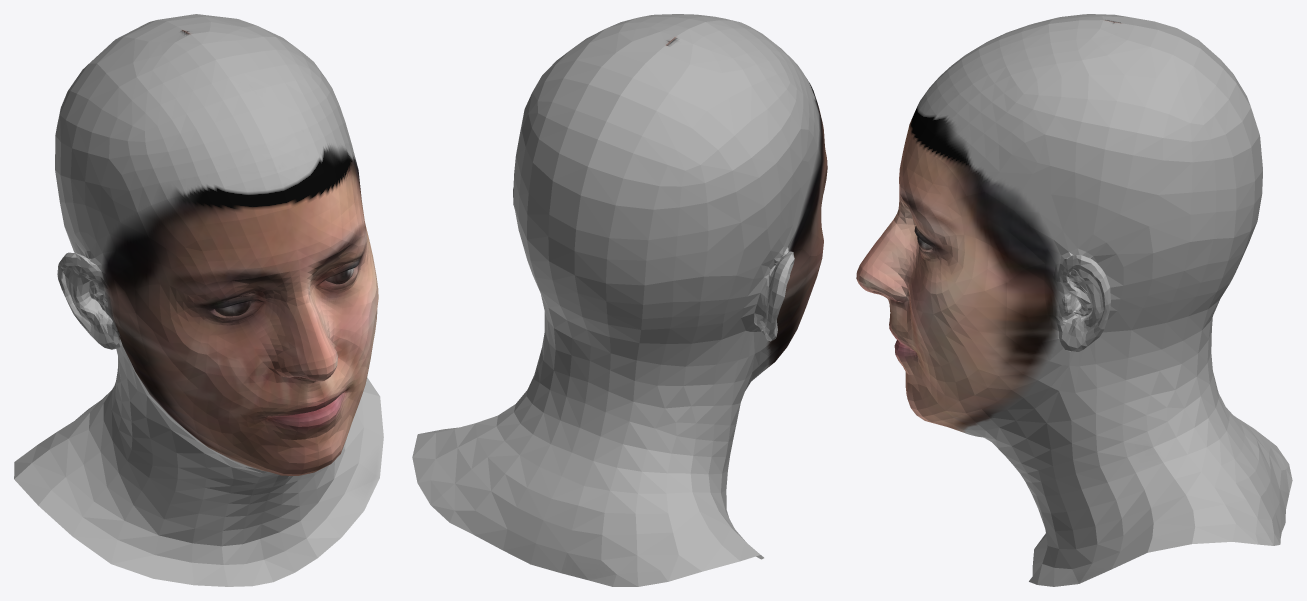
File: face_video_frame0716.obj
3 views of the same model, side by side, from view 1: azimuth 30°, elevation 25°; view 2: azimuth 150°, elevation 25°; view 3: azimuth 270°, elevation 25° (orthographic).
Size of the model in its own units: 0.2139 by 0.324 by 0.2402.
1 material, 1 textured.
